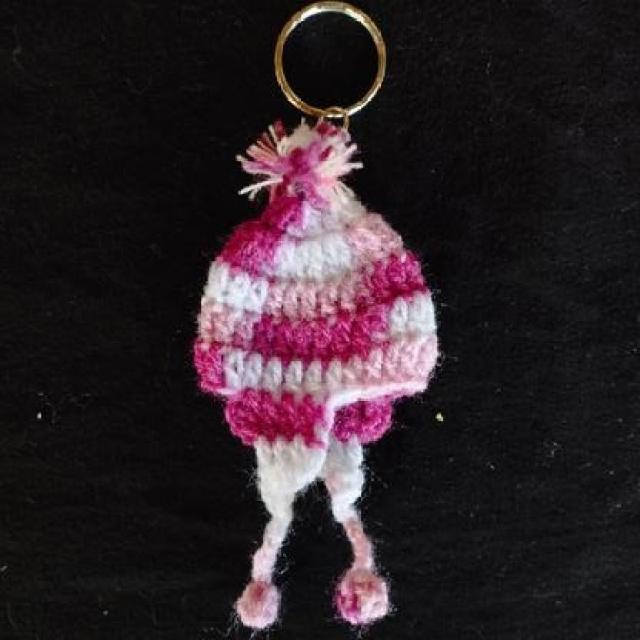Llavero: (190, 113, 442, 633)
